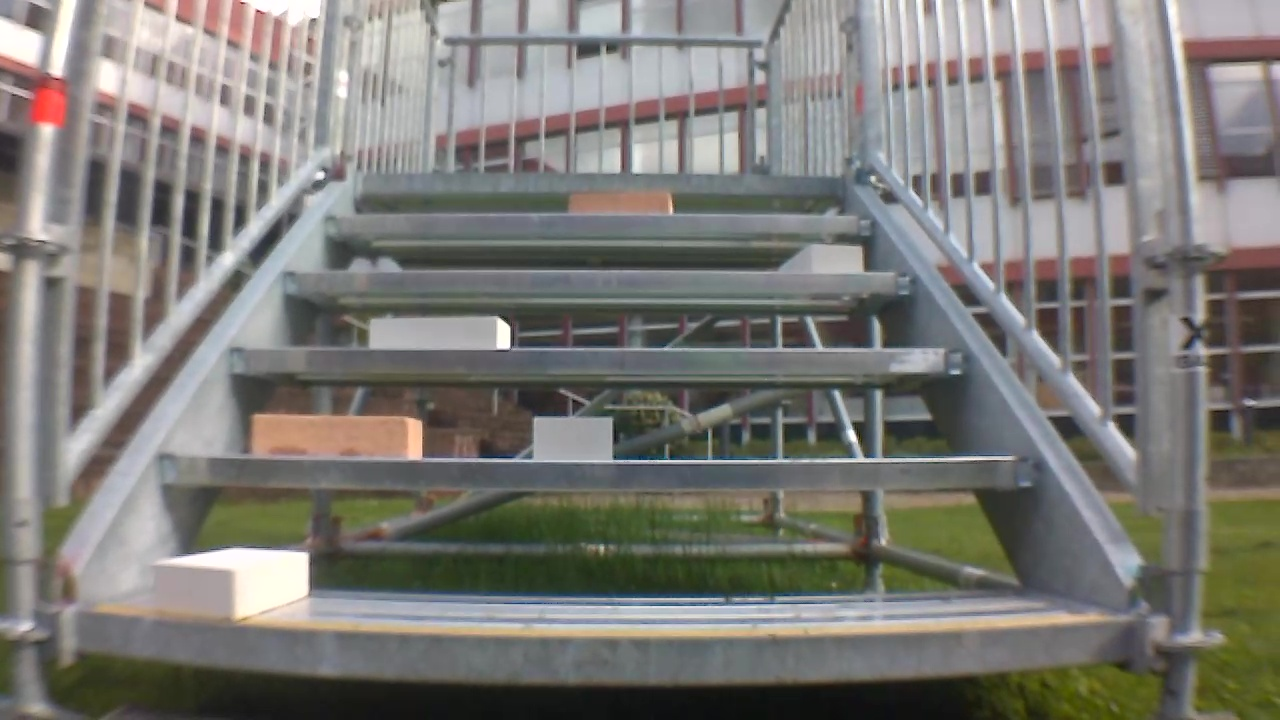brick: (154, 549, 308, 621), (252, 414, 422, 460), (371, 315, 509, 349), (533, 417, 612, 459), (569, 191, 672, 214), (783, 245, 861, 273)
edge: (75, 611, 1131, 681), (157, 455, 1035, 488), (230, 349, 967, 374), (286, 269, 914, 295), (327, 213, 877, 235), (362, 172, 842, 195)
stairs: (4, 4, 1229, 715)
steps: (60, 166, 1151, 695)
